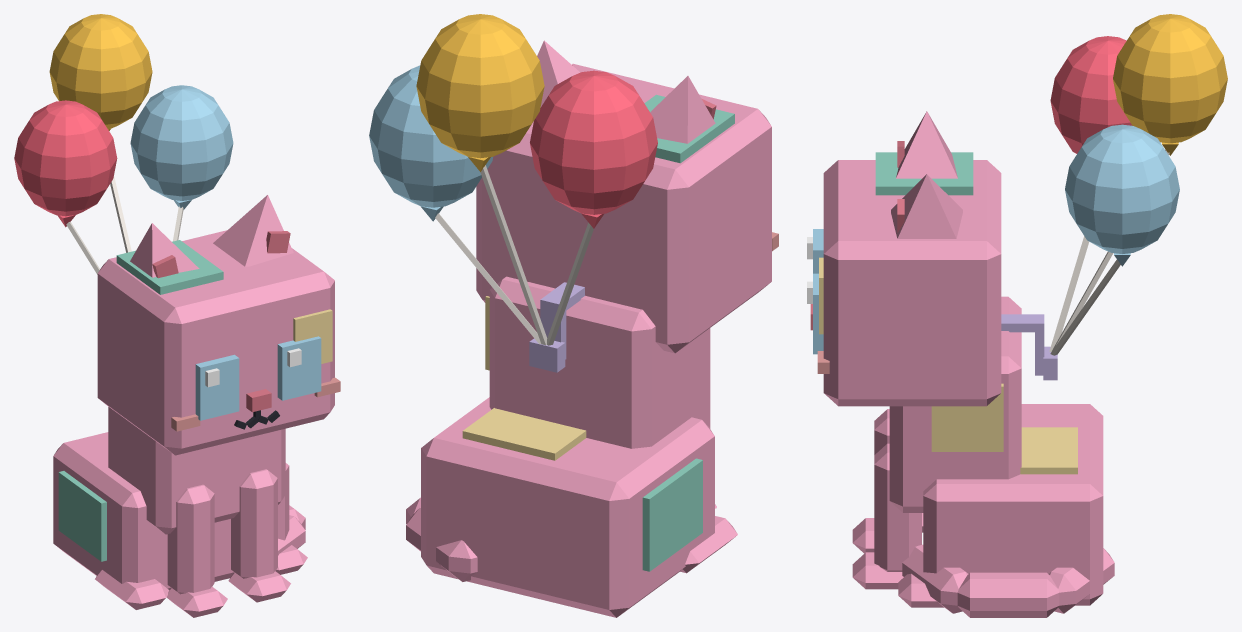
The model's file is CatCafe_Cat_Balloon_Sit.glb.
The picture shows the model from 3 angles, left to right: view 1: azimuth 30°, elevation 25°; view 2: azimuth 150°, elevation 25°; view 3: azimuth 270°, elevation 25°; orthographic projection. The views are drawn at different scales.
Visible parts, largest first — view 1: CatCafe_Cat_Balloon_Sit_Head, CatCafe_Cat_Balloon_Sit_Prop, CatCafe_Cat_Balloon_Sit_Body, CatCafe_Cat_Balloon_Sit_LegF2, CatCafe_Cat_Balloon_Sit_LegF1, CatCafe_Cat_Balloon_Sit_EarL, CatCafe_Cat_Balloon_Sit_Eye2, CatCafe_Cat_Balloon_Sit_Eye1, CatCafe_Cat_Balloon_Sit_EarR, CatCafe_Cat_Balloon_Sit_Tail; view 2: CatCafe_Cat_Balloon_Sit_Body, CatCafe_Cat_Balloon_Sit_Prop, CatCafe_Cat_Balloon_Sit_Head, CatCafe_Cat_Balloon_Sit_EarR, CatCafe_Cat_Balloon_Sit_Tail, CatCafe_Cat_Balloon_Sit_EarL; view 3: CatCafe_Cat_Balloon_Sit_Head, CatCafe_Cat_Balloon_Sit_Body, CatCafe_Cat_Balloon_Sit_Prop, CatCafe_Cat_Balloon_Sit_Tail, CatCafe_Cat_Balloon_Sit_LegF1, CatCafe_Cat_Balloon_Sit_EarL, CatCafe_Cat_Balloon_Sit_EarR, CatCafe_Cat_Balloon_Sit_LegF2, CatCafe_Cat_Balloon_Sit_Eye1.
Part boxes in pixels (left/top/right/bottom): CatCafe_Cat_Balloon_Sit_Head: left=97, top=230, right=340, bottom=455; CatCafe_Cat_Balloon_Sit_Prop: left=14, top=14, right=233, bottom=274; CatCafe_Cat_Balloon_Sit_Body: left=53, top=407, right=307, bottom=609; CatCafe_Cat_Balloon_Sit_LegF2: left=166, top=484, right=227, bottom=617; CatCafe_Cat_Balloon_Sit_LegF1: left=228, top=469, right=290, bottom=602; CatCafe_Cat_Balloon_Sit_EarL: left=213, top=195, right=293, bottom=266; CatCafe_Cat_Balloon_Sit_Eye2: left=195, top=354, right=239, bottom=420; CatCafe_Cat_Balloon_Sit_Eye1: left=277, top=336, right=321, bottom=400; CatCafe_Cat_Balloon_Sit_EarR: left=130, top=223, right=199, bottom=278; CatCafe_Cat_Balloon_Sit_Tail: left=278, top=505, right=305, bottom=555; CatCafe_Cat_Balloon_Sit_Body: left=421, top=276, right=737, bottom=617; CatCafe_Cat_Balloon_Sit_Prop: left=369, top=14, right=657, bottom=372; CatCafe_Cat_Balloon_Sit_Head: left=476, top=63, right=778, bottom=353; CatCafe_Cat_Balloon_Sit_EarR: left=650, top=76, right=716, bottom=143; CatCafe_Cat_Balloon_Sit_Tail: left=406, top=497, right=477, bottom=581; CatCafe_Cat_Balloon_Sit_EarL: left=537, top=40, right=579, bottom=107; CatCafe_Cat_Balloon_Sit_Head: left=810, top=152, right=1001, bottom=406; CatCafe_Cat_Balloon_Sit_Body: left=889, top=296, right=1103, bottom=607; CatCafe_Cat_Balloon_Sit_Prop: left=1001, top=14, right=1227, bottom=380; CatCafe_Cat_Balloon_Sit_Tail: left=902, top=544, right=1114, bottom=617; CatCafe_Cat_Balloon_Sit_LegF1: left=852, top=443, right=921, bottom=589; CatCafe_Cat_Balloon_Sit_EarL: left=891, top=174, right=962, bottom=238; CatCafe_Cat_Balloon_Sit_EarR: left=896, top=111, right=957, bottom=178; CatCafe_Cat_Balloon_Sit_LegF2: left=852, top=409, right=889, bottom=553; CatCafe_Cat_Balloon_Sit_Eye1: left=807, top=273, right=823, bottom=354.
Size of the model in its own units: 1.14 by 2.39 by 1.67.
1 material, 1 textured.
